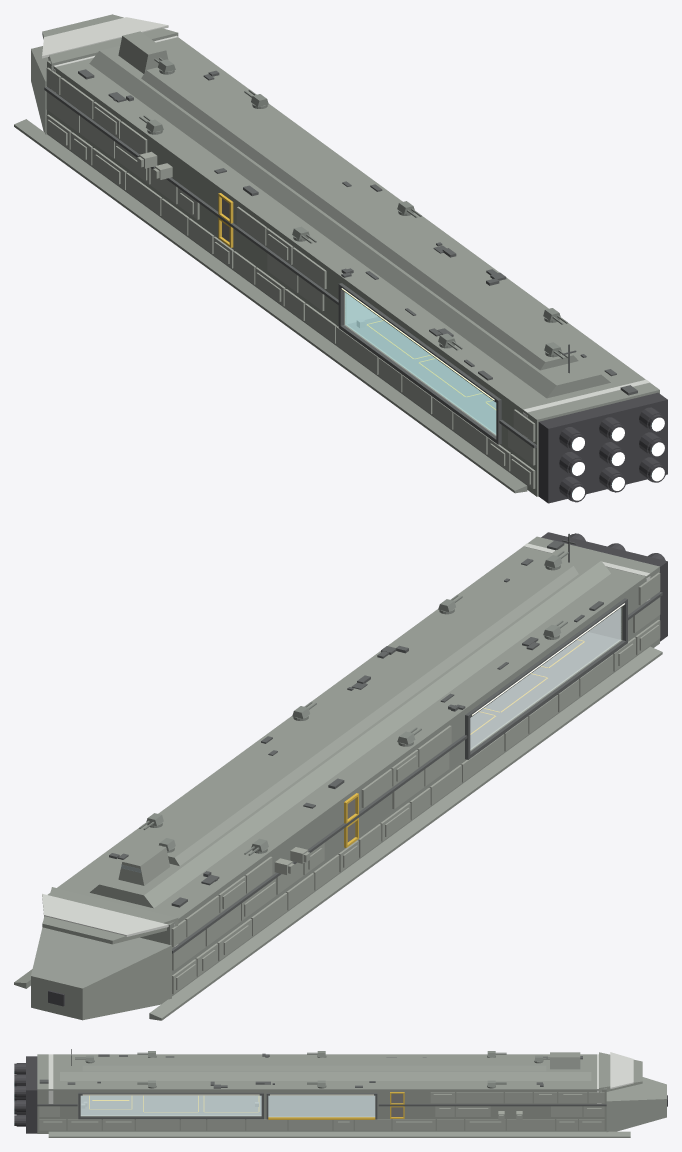
Rendered from ship_LARGE.glb.
3 renders of one model, top to bottom at view 1: azimuth 30°, elevation 25°; view 2: azimuth 150°, elevation 25°; view 3: azimuth 270°, elevation 25°, orthographic. The views are drawn at different scales.
Visible parts, largest first — view 1: LARGE_Hull-col, LARGE_Armor, LARGE_Engines, LARGE_HangarShield_Port, LARGE_Trim, LARGE_Decks-col, LARGE_Accent, LARGE_Details, LARGE_EngineGlow, LARGE_Hazard; view 2: LARGE_Hull-col, LARGE_Armor, LARGE_HangarShield_Port, LARGE_Trim, LARGE_Decks-col, LARGE_Accent, LARGE_Engines, LARGE_Details, LARGE_Hazard; view 3: LARGE_Hull-col, LARGE_Armor, LARGE_HangarShield_Starboard, LARGE_Decks-col, LARGE_Trim, LARGE_CargoBayShield, LARGE_CargoBayDoor-col, LARGE_Engines, LARGE_Accent, LARGE_Hazard, LARGE_Lights, LARGE_Details.
Boxes of the visible parts, bbox=[...] form: LARGE_Hull-col: bbox=[14, 14, 659, 496]; LARGE_Armor: bbox=[46, 67, 535, 488]; LARGE_Engines: bbox=[538, 392, 667, 503]; LARGE_HangarShield_Port: bbox=[345, 292, 496, 434]; LARGE_Trim: bbox=[44, 86, 536, 448]; LARGE_Decks-col: bbox=[347, 317, 496, 433]; LARGE_Accent: bbox=[42, 17, 649, 437]; LARGE_Details: bbox=[78, 69, 637, 395]; LARGE_EngineGlow: bbox=[572, 417, 664, 500]; LARGE_Hazard: bbox=[218, 193, 495, 409]; LARGE_Hull-col: bbox=[14, 536, 662, 1020]; LARGE_Armor: bbox=[171, 572, 660, 994]; LARGE_HangarShield_Port: bbox=[470, 608, 621, 749]; LARGE_Trim: bbox=[172, 592, 662, 953]; LARGE_Decks-col: bbox=[470, 632, 618, 748]; LARGE_Accent: bbox=[42, 543, 650, 946]; LARGE_Engines: bbox=[48, 532, 667, 1006]; LARGE_Details: bbox=[109, 533, 603, 907]; LARGE_Hazard: bbox=[344, 639, 584, 847]; LARGE_Hull-col: bbox=[37, 1052, 666, 1137]; LARGE_Armor: bbox=[39, 1092, 604, 1130]; LARGE_HangarShield_Starboard: bbox=[80, 1095, 261, 1115]; LARGE_Decks-col: bbox=[80, 1095, 261, 1115]; LARGE_Trim: bbox=[37, 1092, 606, 1119]; LARGE_CargoBayShield: bbox=[268, 1095, 375, 1116]; LARGE_CargoBayDoor-col: bbox=[268, 1095, 375, 1116]; LARGE_Engines: bbox=[14, 1056, 667, 1133]; LARGE_Accent: bbox=[48, 1052, 633, 1103]; LARGE_Hazard: bbox=[89, 1092, 404, 1119]; LARGE_Lights: bbox=[83, 1094, 373, 1095]; LARGE_Details: bbox=[39, 1049, 582, 1088].
Size of the model in its own units: 27.3 by 21.4 by 174.
